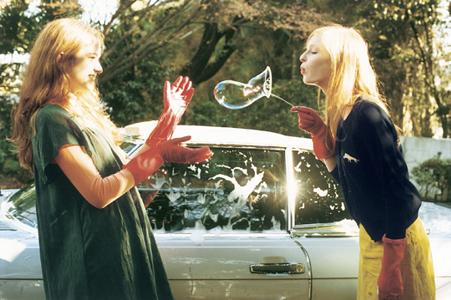person: (285, 23, 442, 300)
